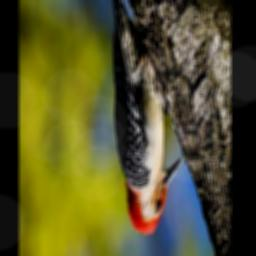Woodpecker: (112, 0, 186, 235)
